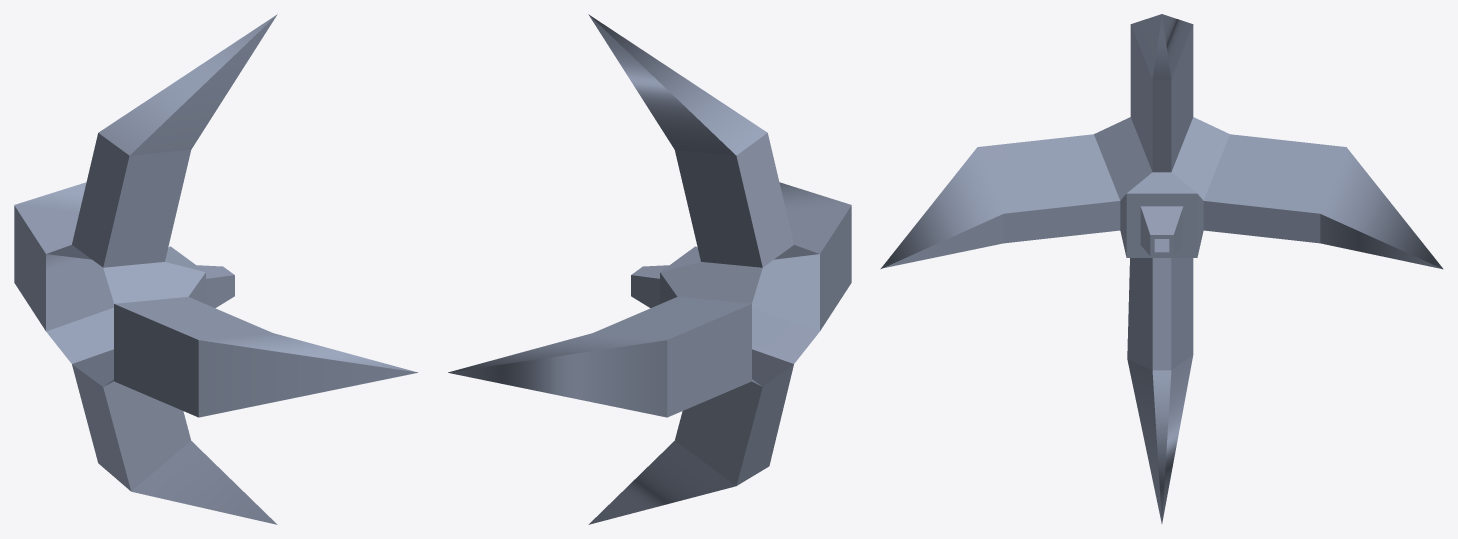
File: weapon-energy-muzzle.glb
3 views of the same model, side by side, from view 1: azimuth 30°, elevation 25°; view 2: azimuth 150°, elevation 25°; view 3: azimuth 270°, elevation 25° (orthographic).
Visible parts, largest first — view 1: Cube.001; view 2: Cube.001; view 3: Cube.001.
Boxes of the visible parts, x1,y1,x2,y2 form: Cube.001: (14, 14, 417, 524); Cube.001: (448, 14, 851, 524); Cube.001: (880, 14, 1443, 523).
Size of the model in its own units: 3.07 by 7.59 by 7.59.
